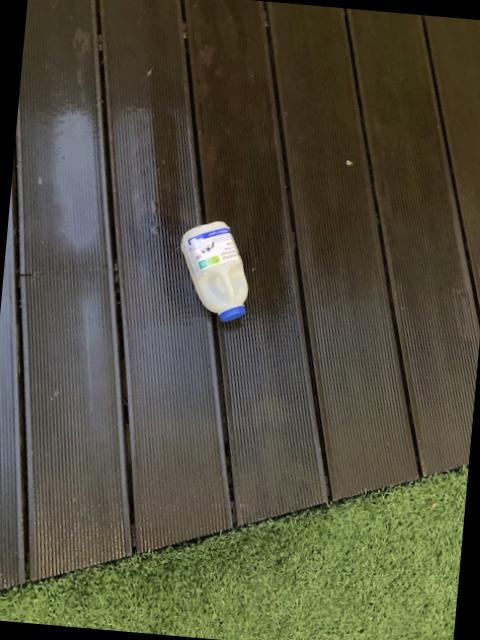plastic: (179, 219, 246, 320)
